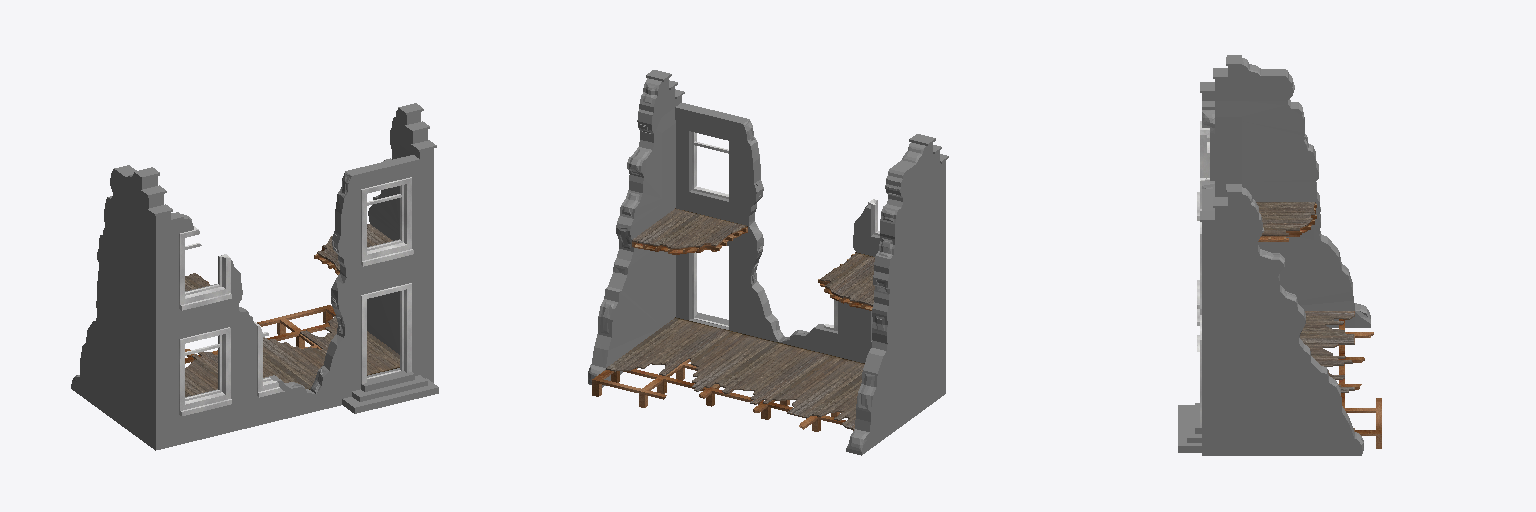
3 views of the same model, side by side, from view 1: azimuth 30°, elevation 25°; view 2: azimuth 150°, elevation 25°; view 3: azimuth 270°, elevation 25° (orthographic).
Parts seen in each view (by area): view 1: House_Main, window_Frames, Floor, Ceiling; view 2: House_Main, Floor, Ceiling, window_Frames; view 3: House_Main, Floor, Ceiling, window_Frames.
Part boxes in pixels (x1,y1,x2,y2): House_Main: (71,103,438,450); window_Frames: (179,177,413,415); Floor: (185,305,399,396); Ceiling: (185,224,392,290); House_Main: (588,70,948,455); Floor: (592,317,864,431); Ceiling: (632,208,874,310); window_Frames: (692,132,879,330); House_Main: (1178,55,1370,455); Floor: (1300,311,1381,448); Ceiling: (1256,202,1316,241); window_Frames: (1197,121,1209,427).
Size of the model in its own units: 839 by 752 by 526.
4 materials, 3 textured.